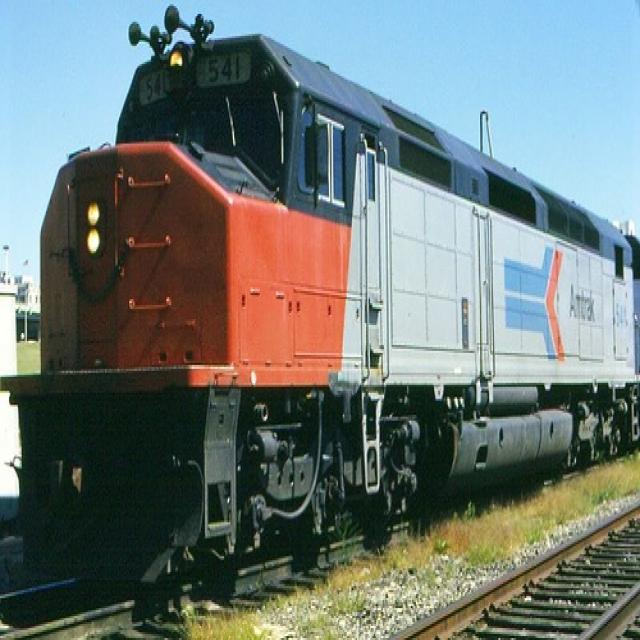train: (1, 8, 632, 578)
